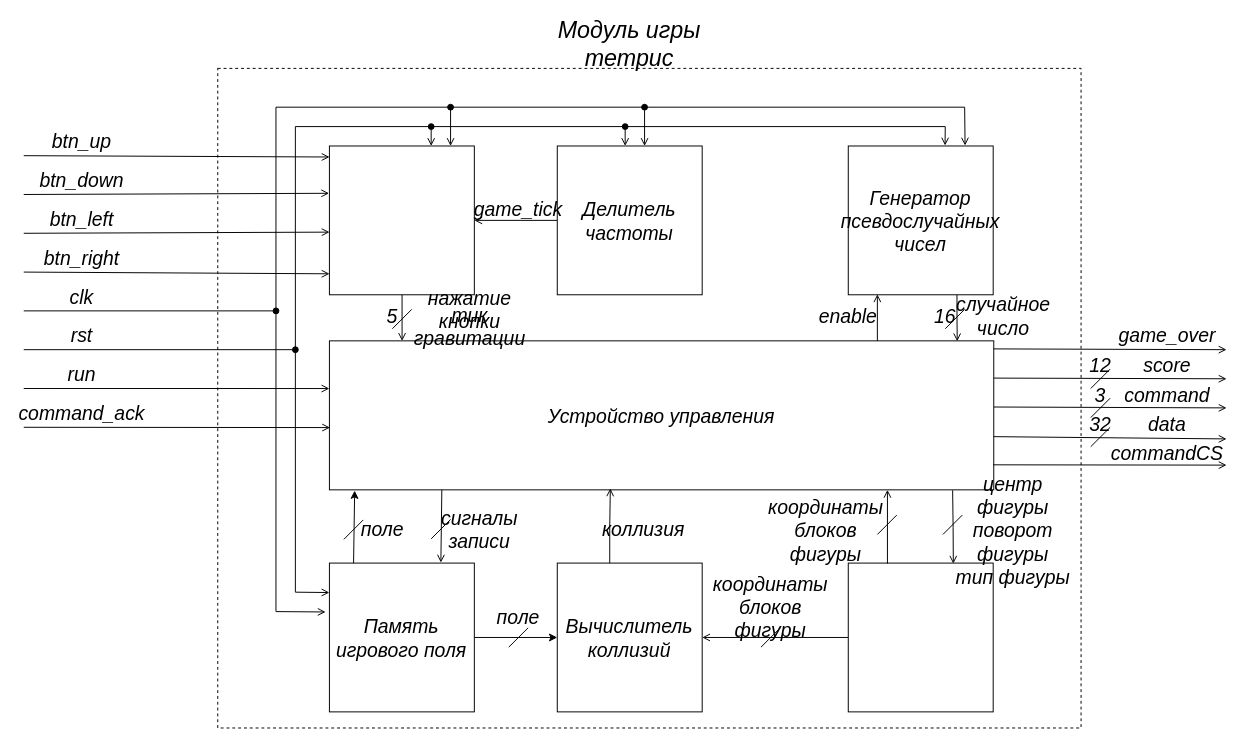
The diagram is 1251 pixels wide and 745 high, and some of its shapes have lost their labels. Here are the shapes that lost their labels. From the top down, the centre of each, then its label:
the point at 401,220: Буфер кнопок
the point at 920,637: Декодер фигур
